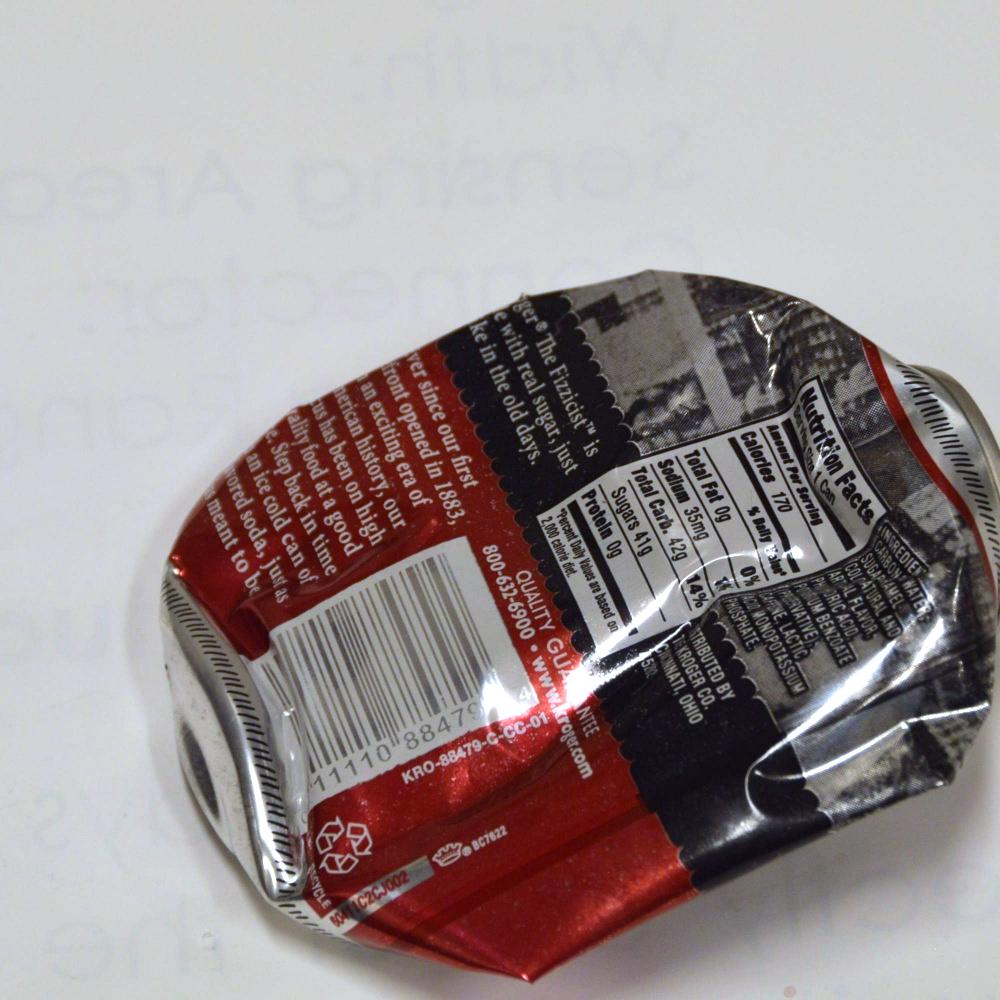Metal: (61, 183, 978, 955)
